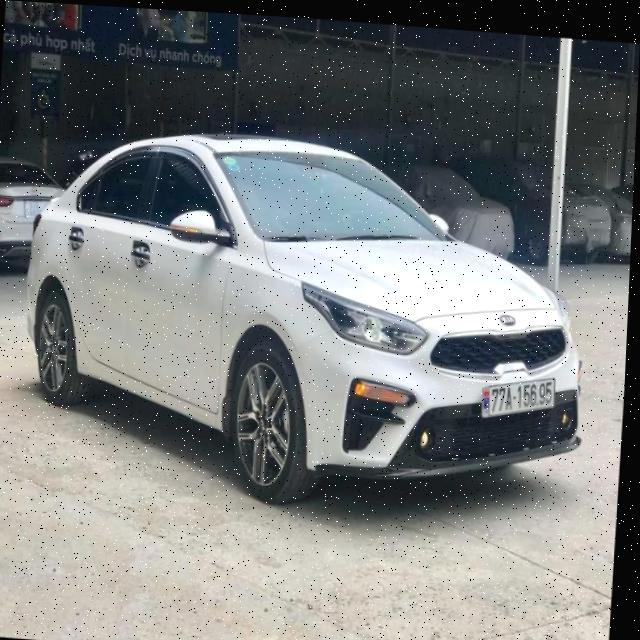car: (1, 101, 591, 528), (0, 151, 59, 279)
plate: (474, 369, 558, 424), (5, 188, 53, 222)
